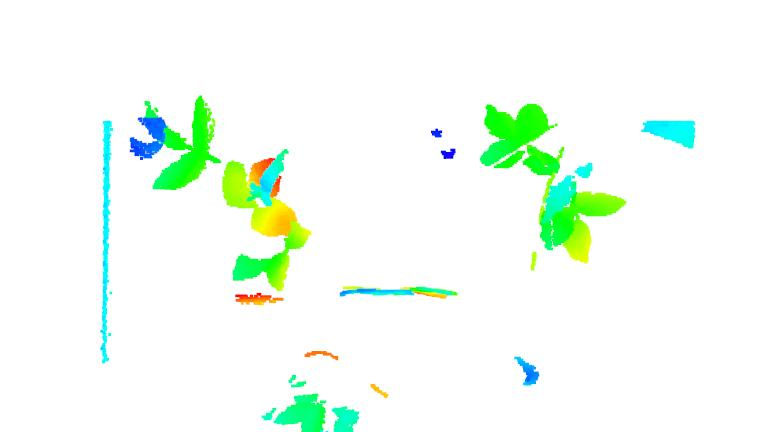mungbean: (131, 94, 311, 292), (466, 99, 638, 269), (272, 383, 358, 432)
